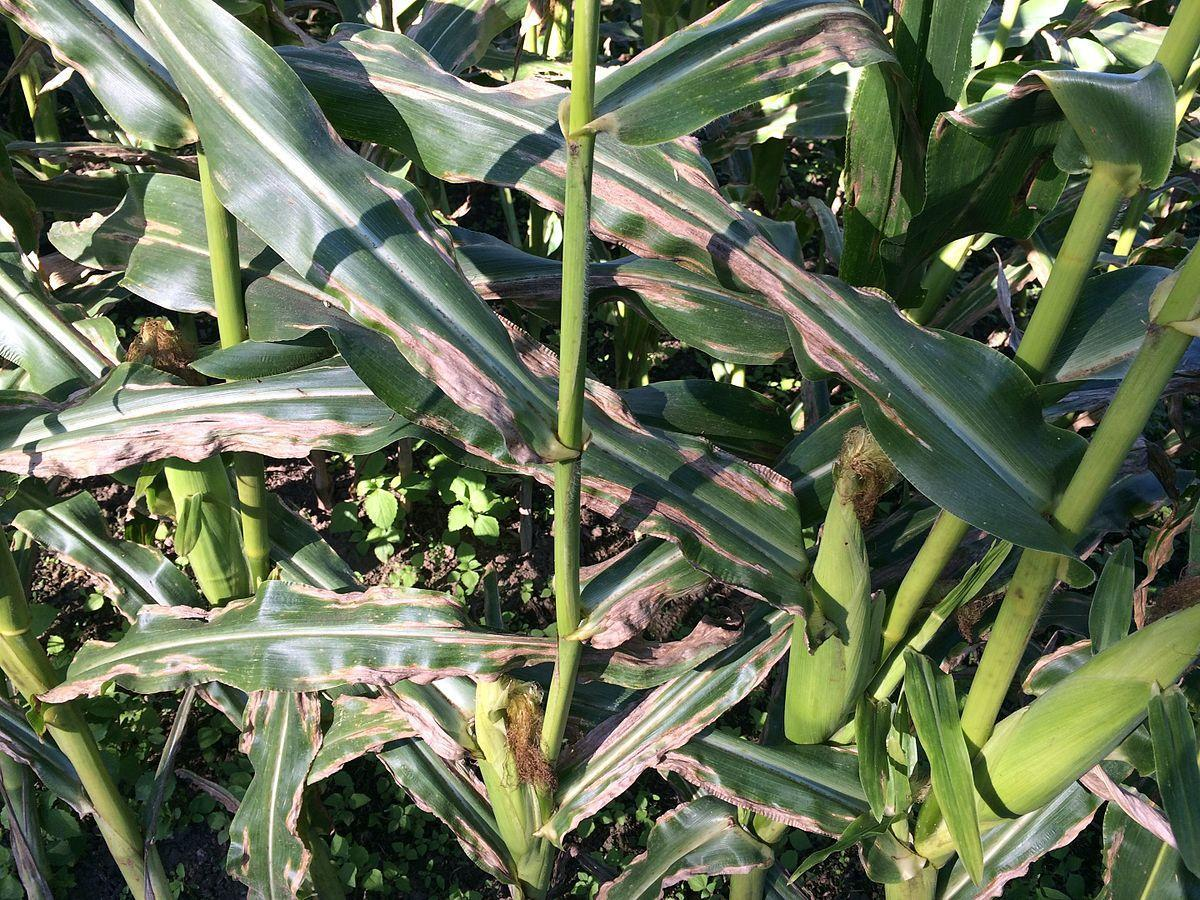Corn_Blight: (484, 42, 891, 316), (572, 576, 796, 884), (5, 355, 380, 516), (588, 333, 798, 545), (71, 646, 557, 737), (64, 551, 484, 630), (400, 346, 534, 507), (1048, 759, 1181, 888), (306, 248, 448, 339)
